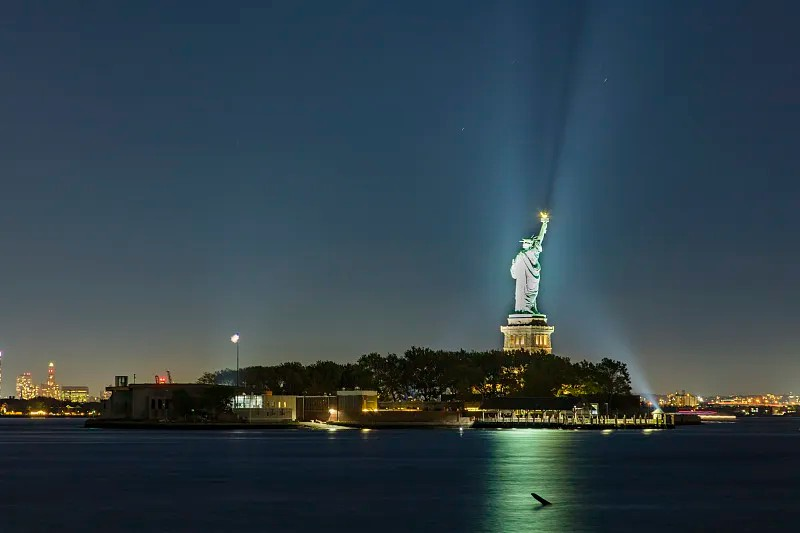SL: (501, 210, 555, 355)
